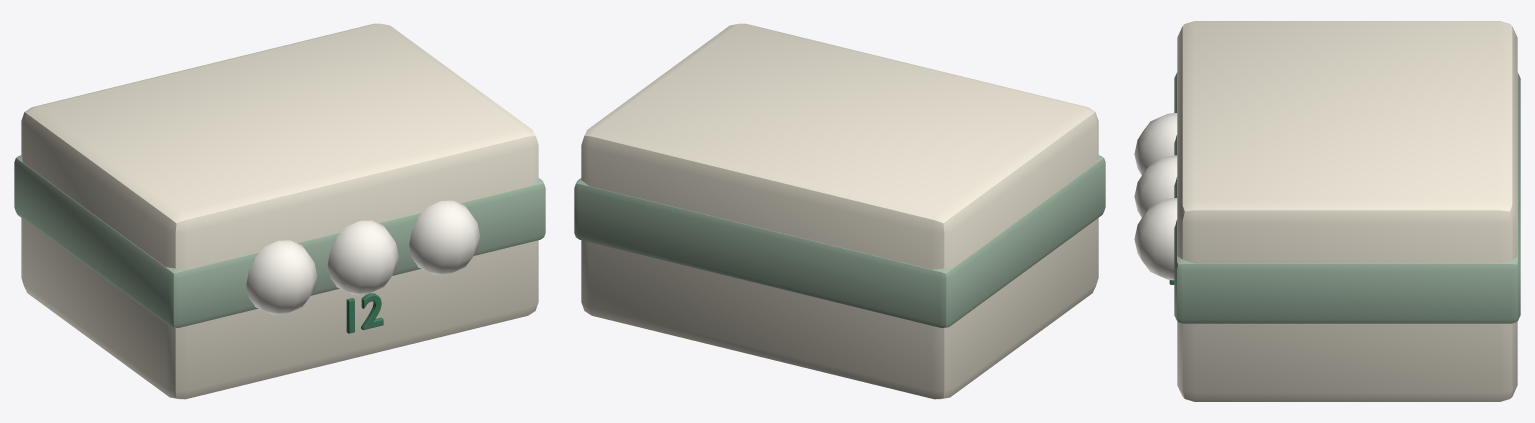
The model's file is checkout_product_ball_carton.glb.
3 views of the same model, side by side, from view 1: azimuth 30°, elevation 25°; view 2: azimuth 150°, elevation 25°; view 3: azimuth 270°, elevation 25° (orthographic). The views are drawn at different scales.
Visible parts, largest first — view 1: BallDozenCarton, BallDozenBand, BallWindow_2, BallWindow_1, BallWindow_3, BallCartonMark; view 2: BallDozenCarton, BallDozenBand; view 3: BallDozenCarton, BallDozenBand, BallWindow_3, BallWindow_2, BallWindow_1.
Part boxes in pixels (box(x1,y1,x2,y2)): BallDozenCarton: box(21, 23, 538, 399); BallDozenBand: box(14, 155, 545, 327); BallWindow_2: box(327, 220, 398, 294); BallWindow_1: box(246, 240, 317, 314); BallWindow_3: box(409, 200, 480, 275); BallCartonMark: box(346, 293, 383, 333); BallDozenCarton: box(581, 23, 1098, 399); BallDozenBand: box(574, 155, 1105, 327); BallDozenCarton: box(1177, 21, 1517, 401); BallDozenBand: box(1174, 72, 1520, 323); BallWindow_3: box(1134, 198, 1177, 280); BallWindow_2: box(1134, 155, 1177, 217); BallWindow_1: box(1134, 113, 1177, 174).
Size of the model in its own units: 0.157 by 0.075 by 0.1305.
